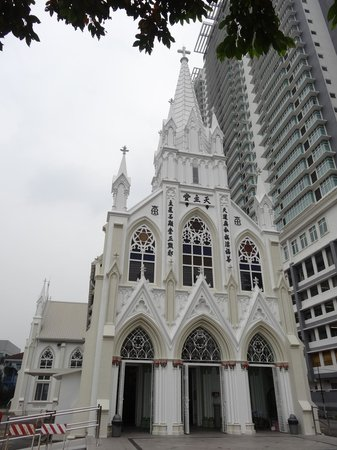Church: (35, 45, 298, 433)
